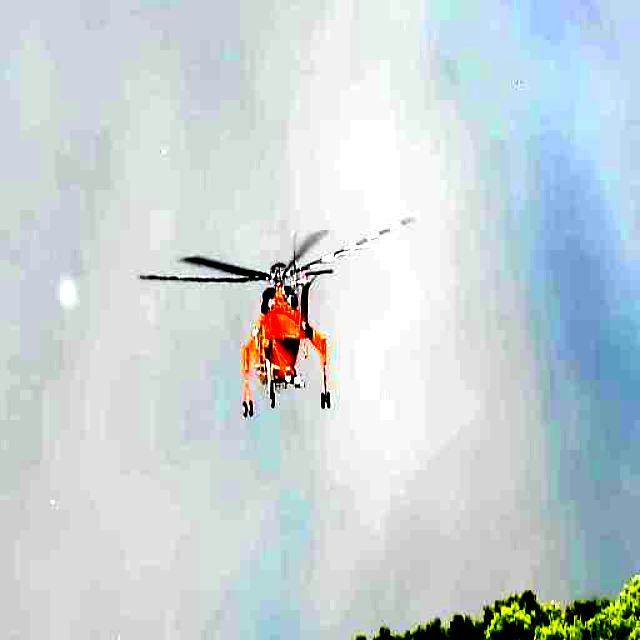drone: (142, 229, 384, 425)
